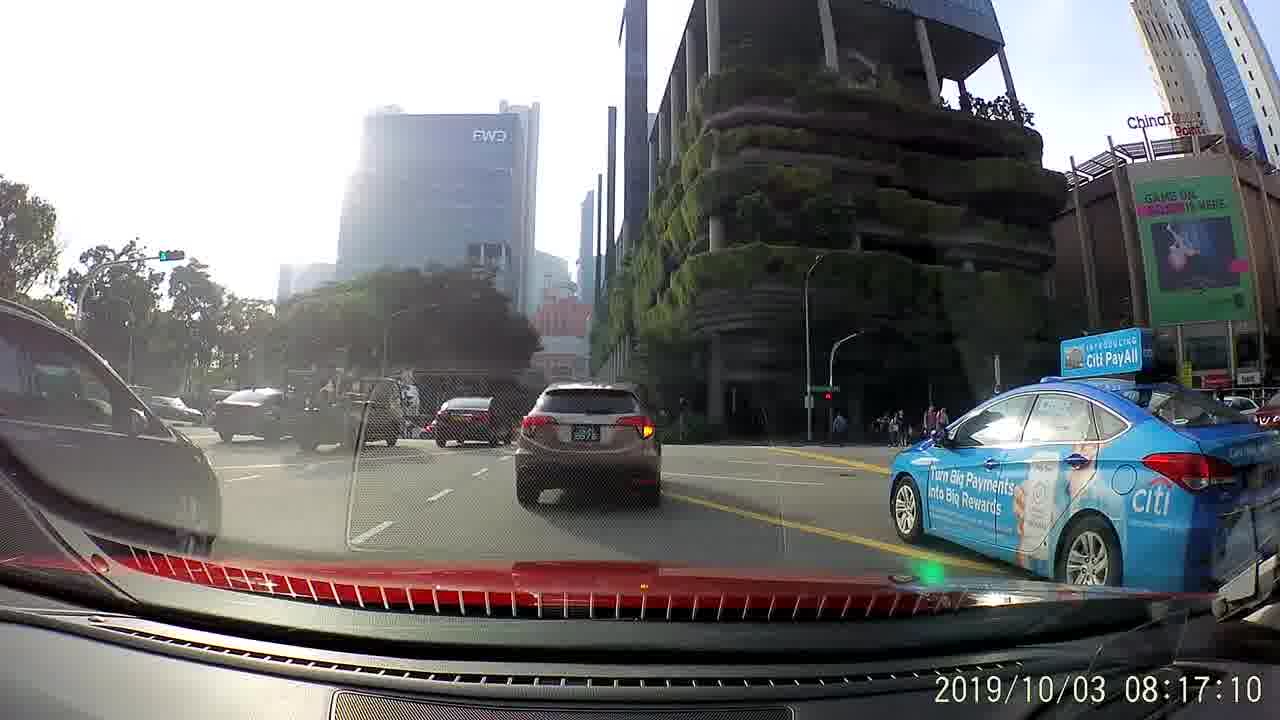car: (888, 338, 1274, 585), (0, 296, 231, 554), (512, 378, 661, 512), (213, 380, 288, 449), (432, 394, 513, 447), (145, 390, 203, 427)
